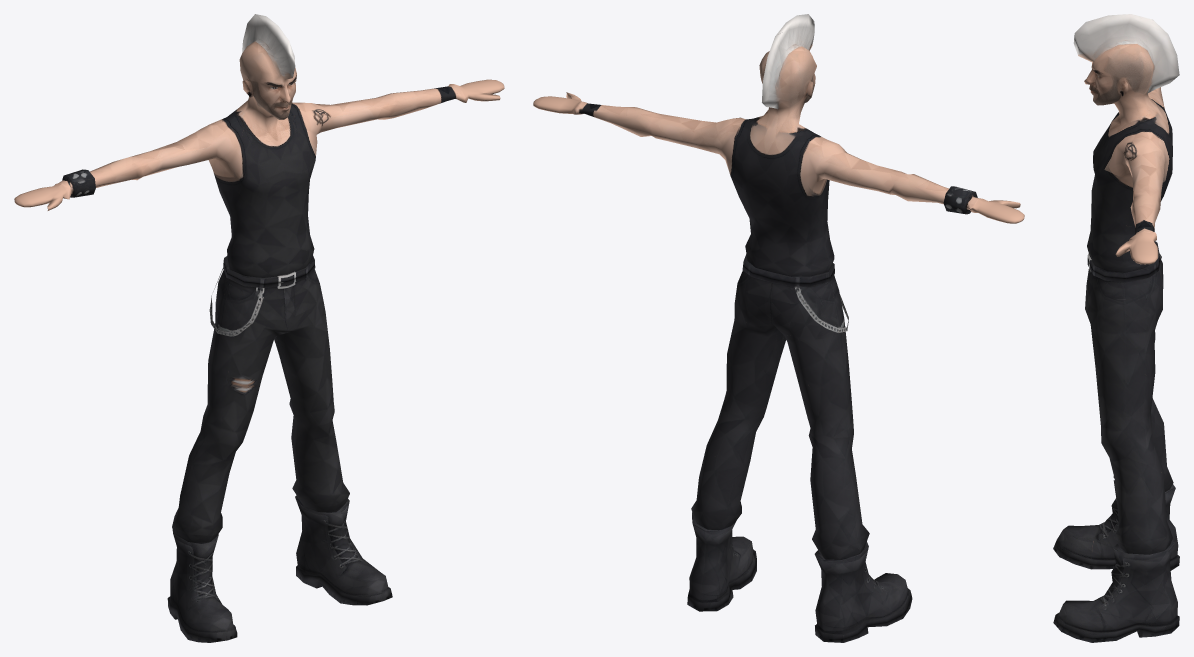
File: thug_white_male_skinny_mittens.glb
The picture shows the model from 3 angles, left to right: view 1: azimuth 30°, elevation 25°; view 2: azimuth 150°, elevation 25°; view 3: azimuth 270°, elevation 25°; orthographic projection.
Parts seen in each view (by area): view 1: Hostile_Skinny; view 2: Hostile_Skinny; view 3: Hostile_Skinny.
Part boxes in pixels (x1,y1,x2,y2): Hostile_Skinny: (14, 14, 504, 642); Hostile_Skinny: (533, 14, 1024, 642); Hostile_Skinny: (1053, 14, 1179, 642).
Size of the model in its own units: 1.57 by 1.8 by 0.356.
2 materials, 1 textured.
